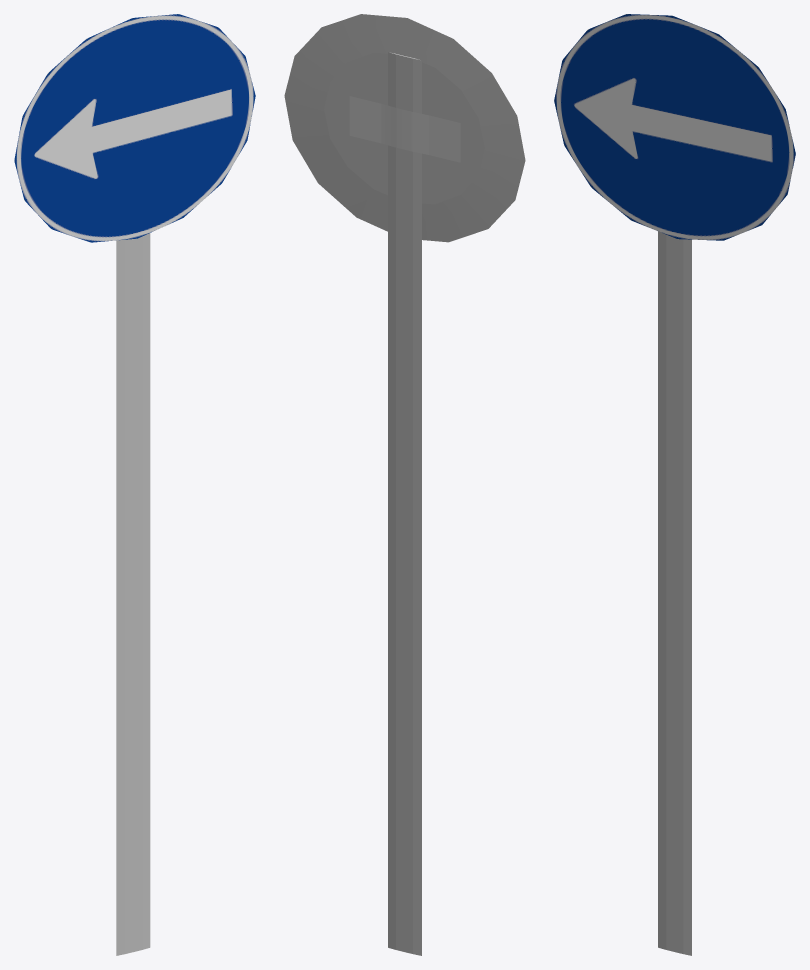
The model's file is sagyon.dae.
3 renders of one model, left to right at view 1: azimuth 30°, elevation 25°; view 2: azimuth 150°, elevation 25°; view 3: azimuth 330°, elevation 25°, orthographic.
Visible parts, largest first — view 1: Sign_Circle.005; view 2: Sign_Circle.005; view 3: Sign_Circle.005.
Part boxes in pixels (bbox=[...]): Sign_Circle.005: bbox=[14, 14, 255, 955]; Sign_Circle.005: bbox=[284, 14, 525, 955]; Sign_Circle.005: bbox=[554, 14, 795, 955].
Bounding box in the file's own units: 0.6895 × 0.00621 × 2.55.
Materials: 3 (1 with a texture image).
